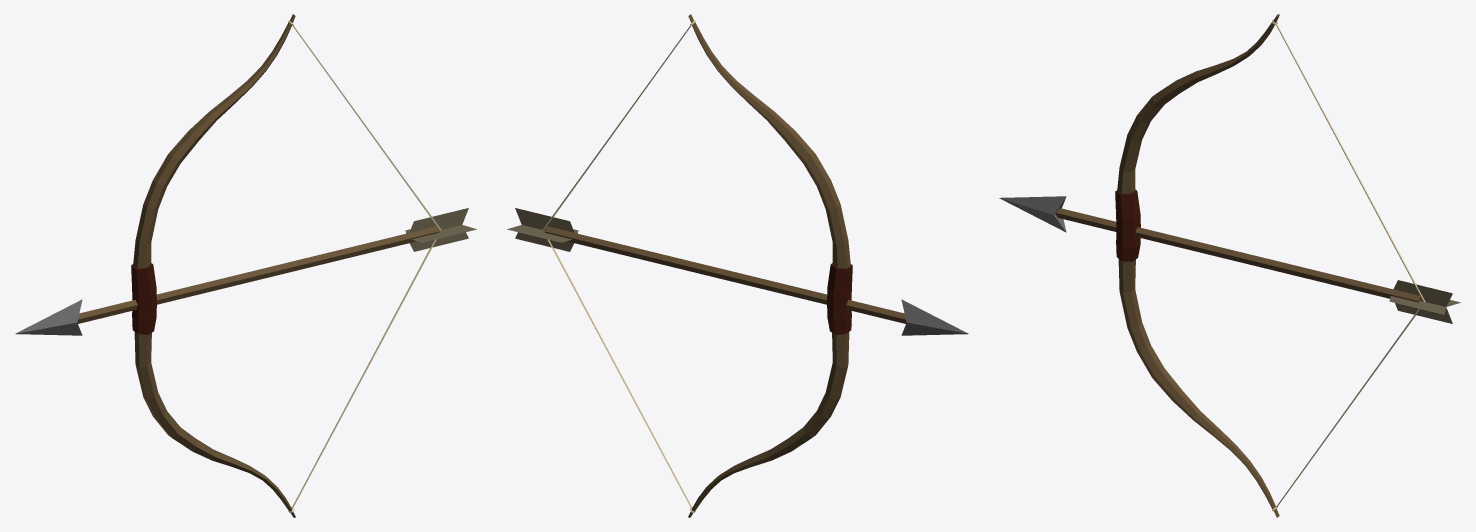
File: BowArrow.glb
3 renders of one model, left to right at view 1: azimuth 30°, elevation 25°; view 2: azimuth 150°, elevation 25°; view 3: azimuth 330°, elevation 25°, orthographic.
Visible parts, largest first — view 1: Bow; view 2: Bow; view 3: Bow.
Part boxes in pixels (<box>): Bow: <box>15,14,476,517</box>; Bow: <box>507,14,968,517</box>; Bow: <box>999,14,1460,517</box>.
Size of the model in its own units: 829 by 877 by 53.66.
